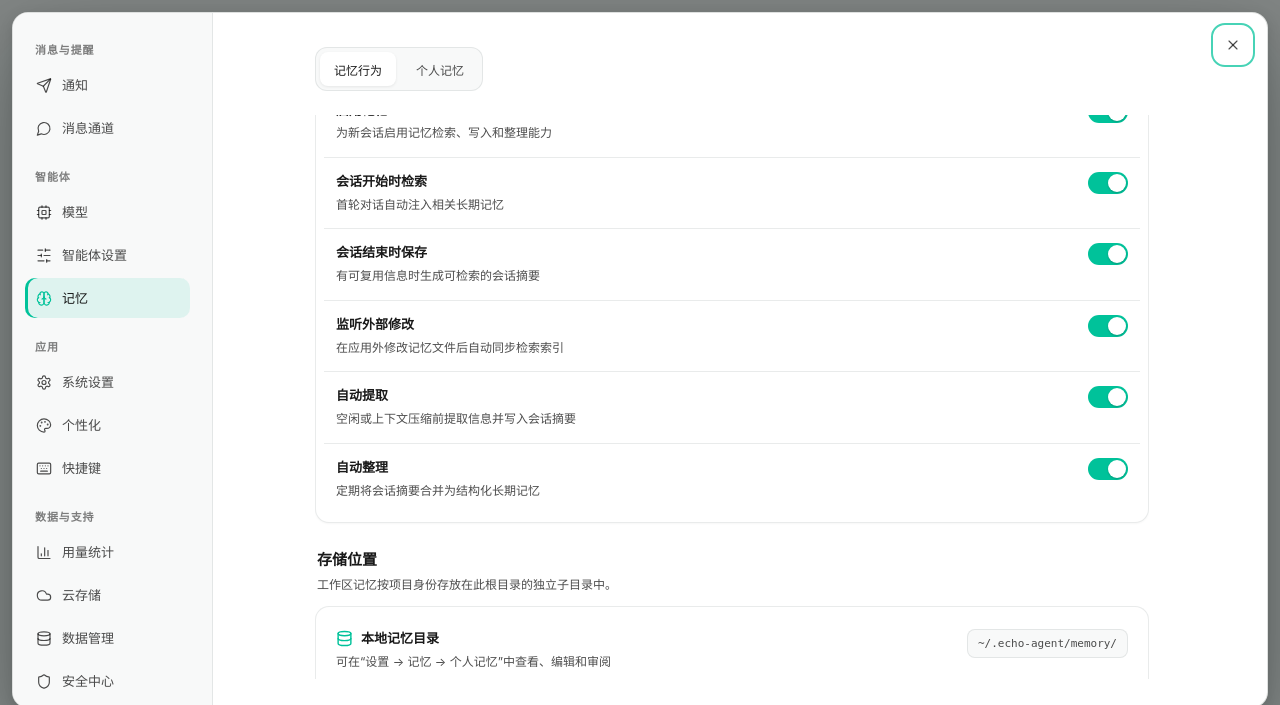
Test case: SettingsPanel › 记忆开关仅保存更改字段
(page scrolled)
Click the checkbox named "自动提取" at (1108, 397), box top-left (1088, 386), bottom-right (1128, 408)
(page scrolled)
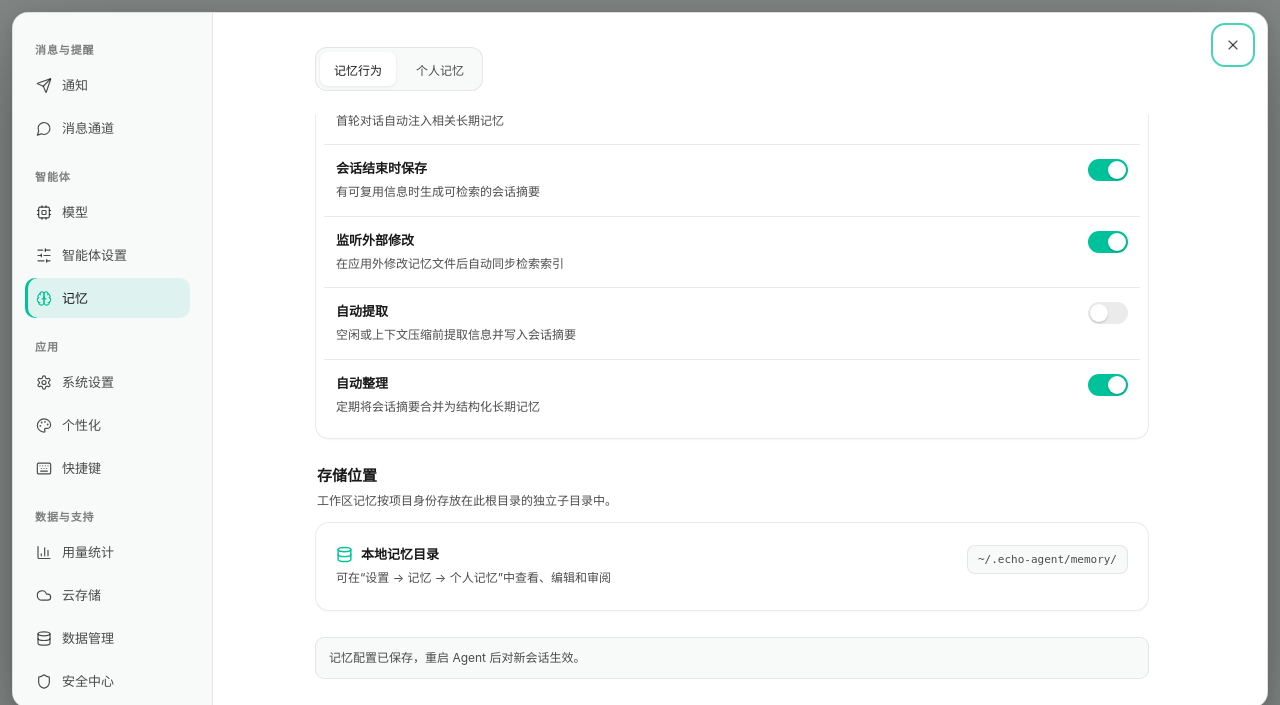
Now the text "记忆配置已保存，重启 Agent 后对新会话生效。" is shown, box top-left (315, 636), bottom-right (1149, 679)
